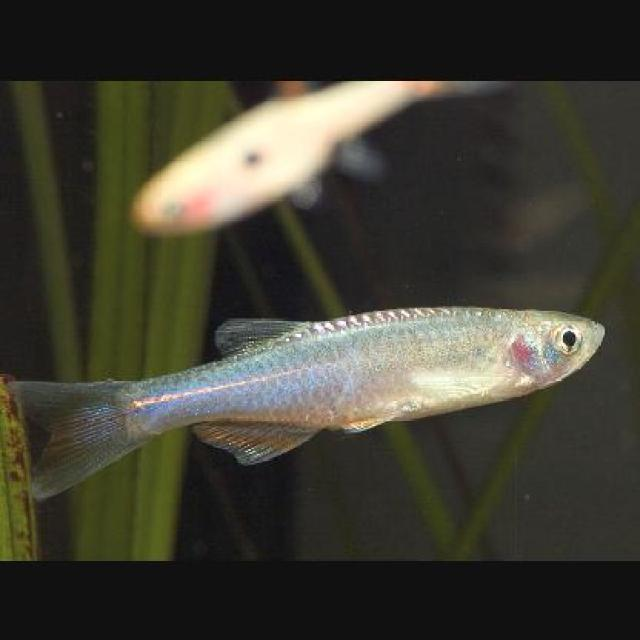ZebraFish: (6, 303, 606, 503)
